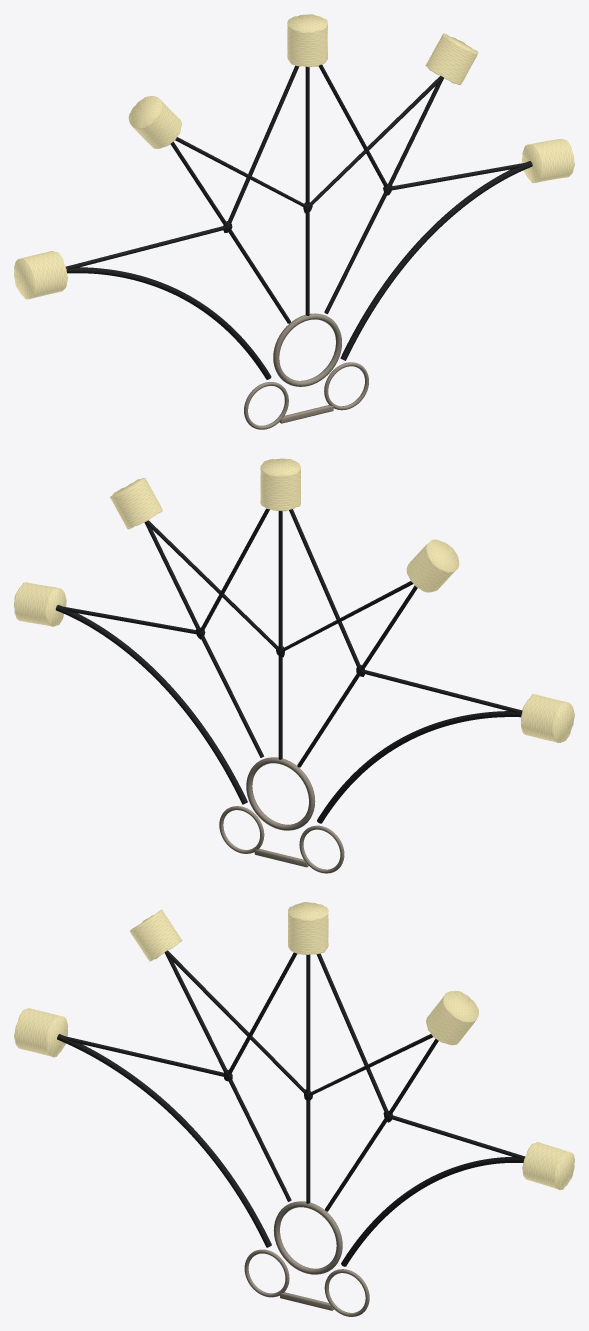
Rendered from fan-flat-grip.glb.
The picture shows the model from 3 angles, top to bottom: view 1: azimuth 30°, elevation 25°; view 2: azimuth 150°, elevation 25°; view 3: azimuth 330°, elevation 25°; orthographic projection.
Parts seen in each view (by area): view 1: Fan_FlatGrip; view 2: Fan_FlatGrip; view 3: Fan_FlatGrip.
Boxes of the visible parts, x1=… form: Fan_FlatGrip: x1=14, y1=14, x2=574, y2=429; Fan_FlatGrip: x1=14, y1=458, x2=574, y2=873; Fan_FlatGrip: x1=14, y1=902, x2=574, y2=1316.
Size of the model in its own units: 0.4801 by 0.3353 by 0.0323.
Materials: 3 (1 with a texture image).
